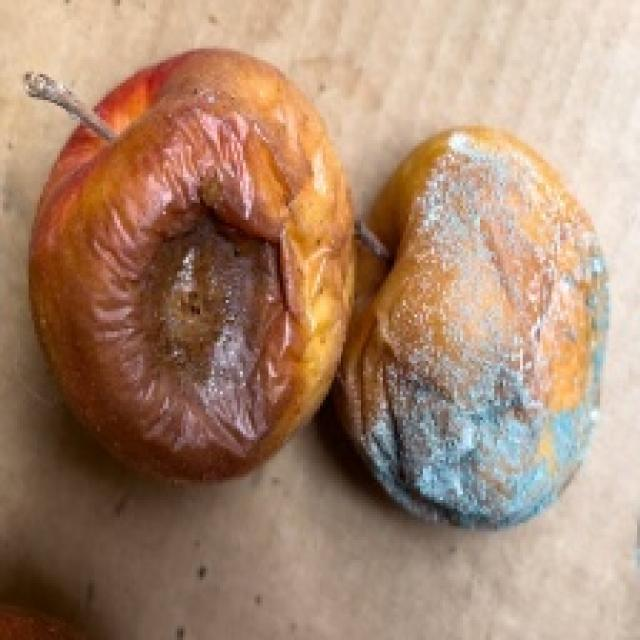rotten_apple: (32, 53, 349, 475), (350, 133, 600, 524)
